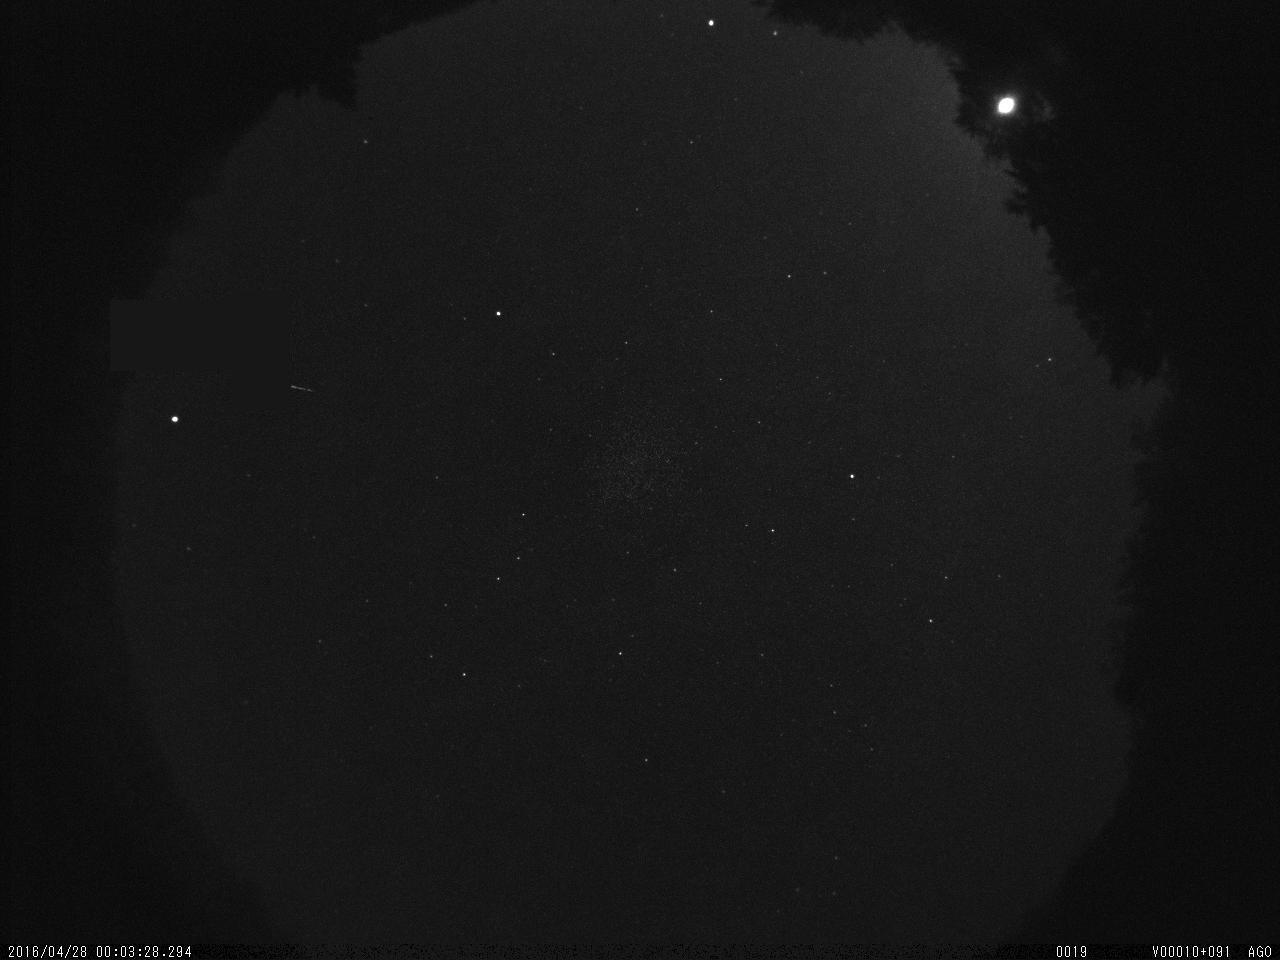meteor: (268, 336, 308, 430)
